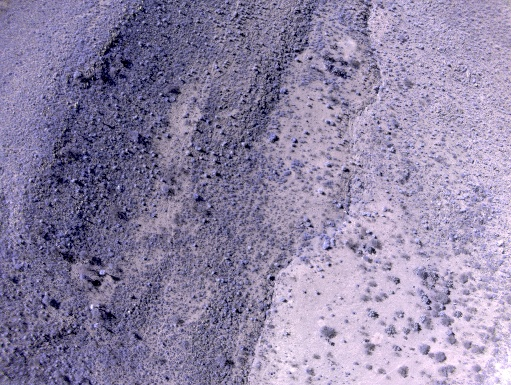agave: (138, 19, 148, 28), (114, 103, 125, 111), (82, 154, 91, 163), (45, 200, 54, 208), (154, 20, 161, 30), (80, 169, 88, 177), (57, 159, 64, 167), (138, 61, 149, 66), (145, 42, 152, 49), (95, 116, 101, 124), (136, 40, 143, 46), (194, 18, 200, 25), (179, 9, 184, 17), (38, 182, 44, 188), (208, 16, 212, 21)
